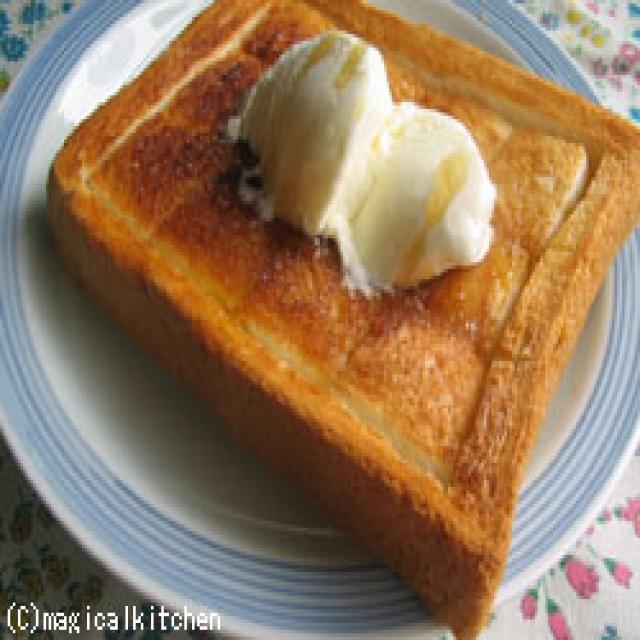面包点心: (43, 0, 632, 609)
